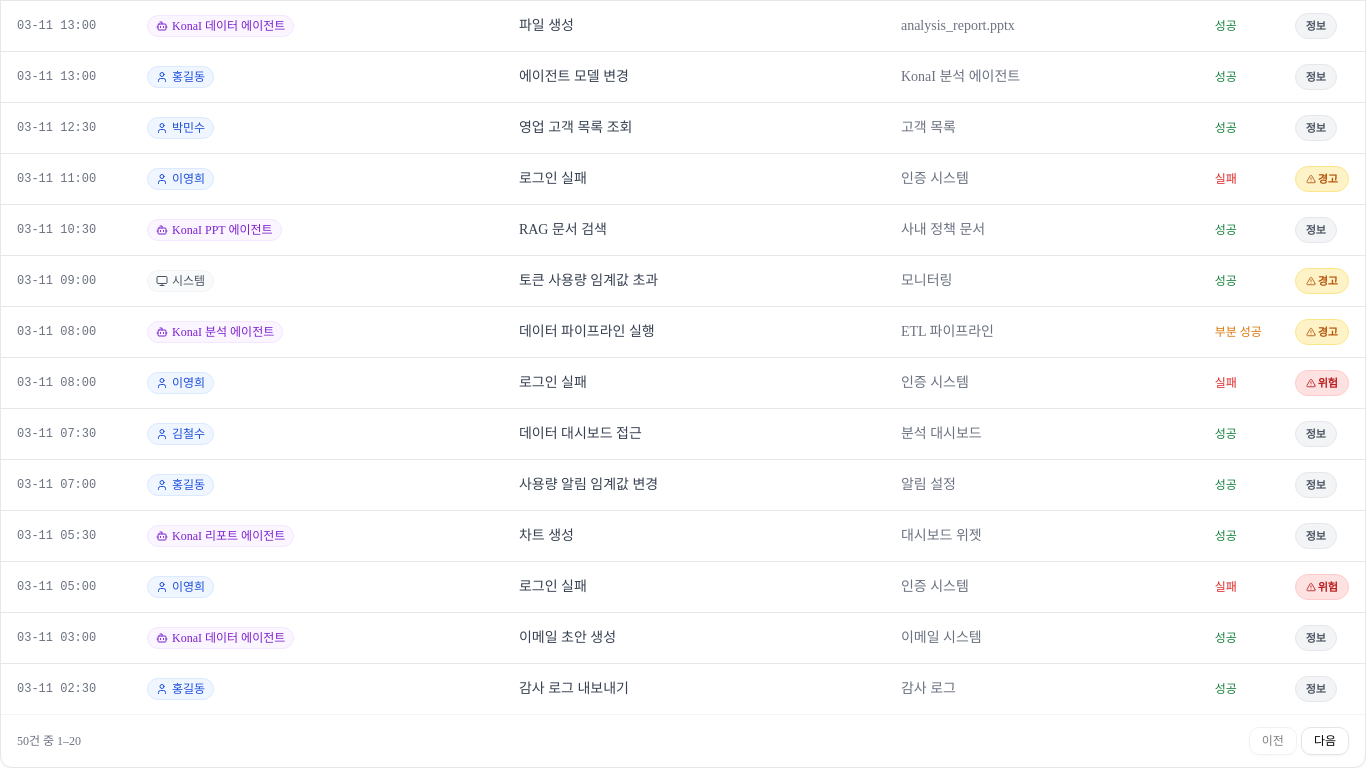
it: AuditLogView — QA Edge Cases › Pagination boundary › "다음" button is disabled on the last page
(page scrolled)
Click the button "다음": (1325, 741) [1301,727,1349,755]
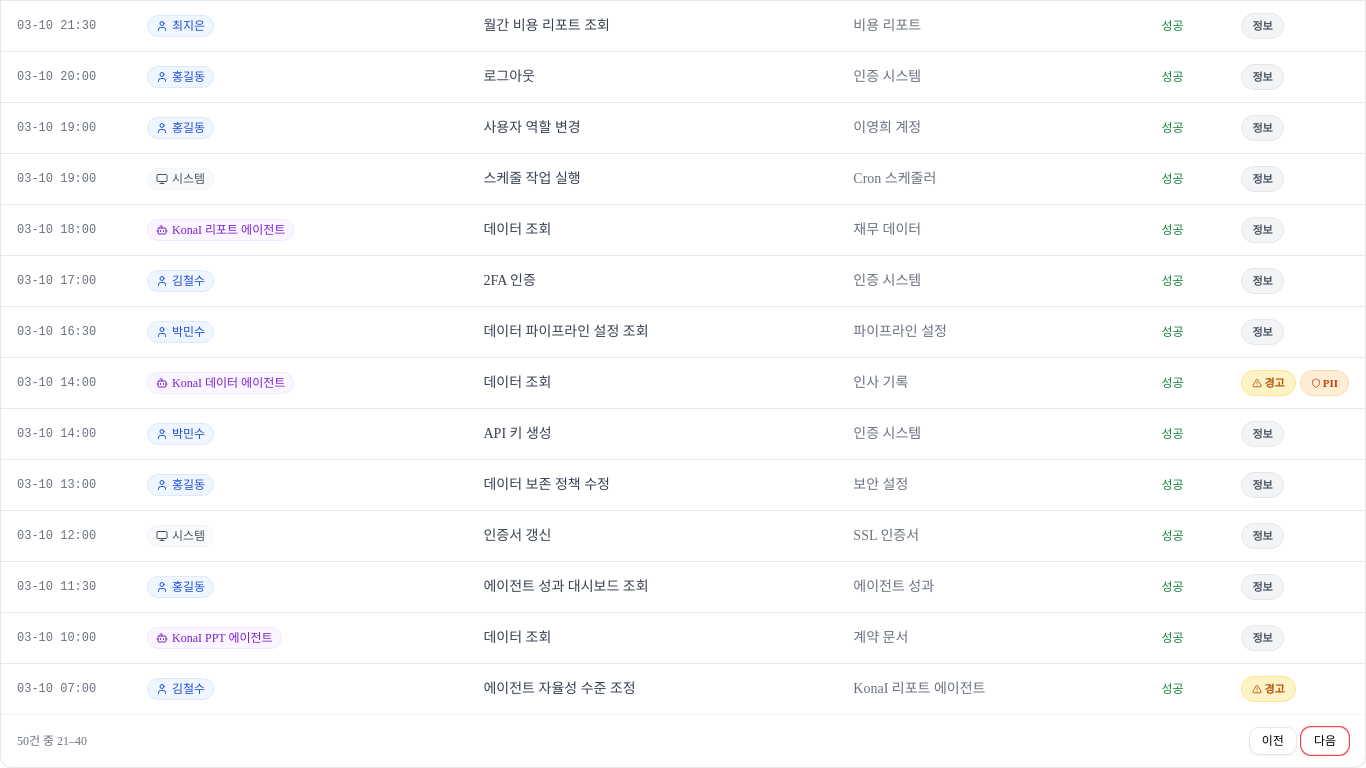
Click the button "다음": (1325, 741) [1301,727,1349,755]
(page scrolled)
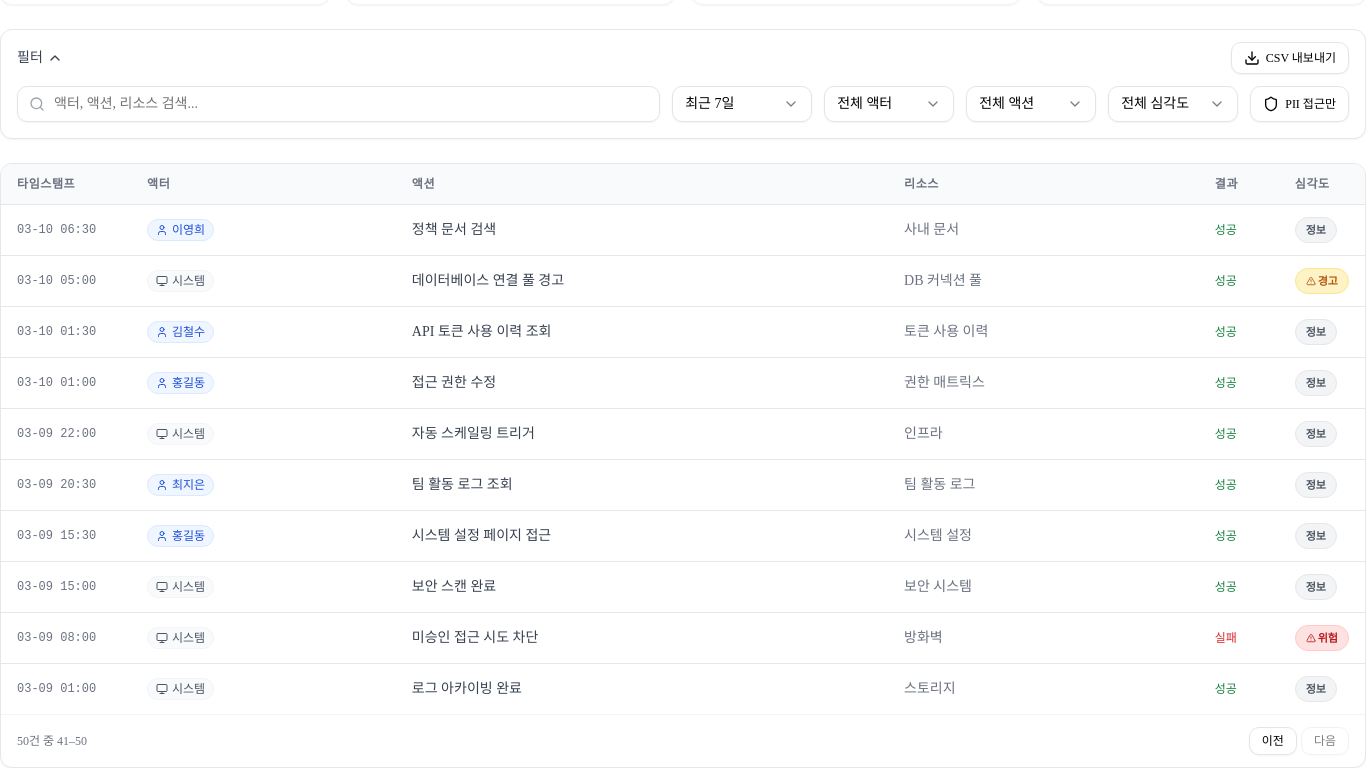
expect the button "다음" is disabled: met, box [1301,727,1349,755]
